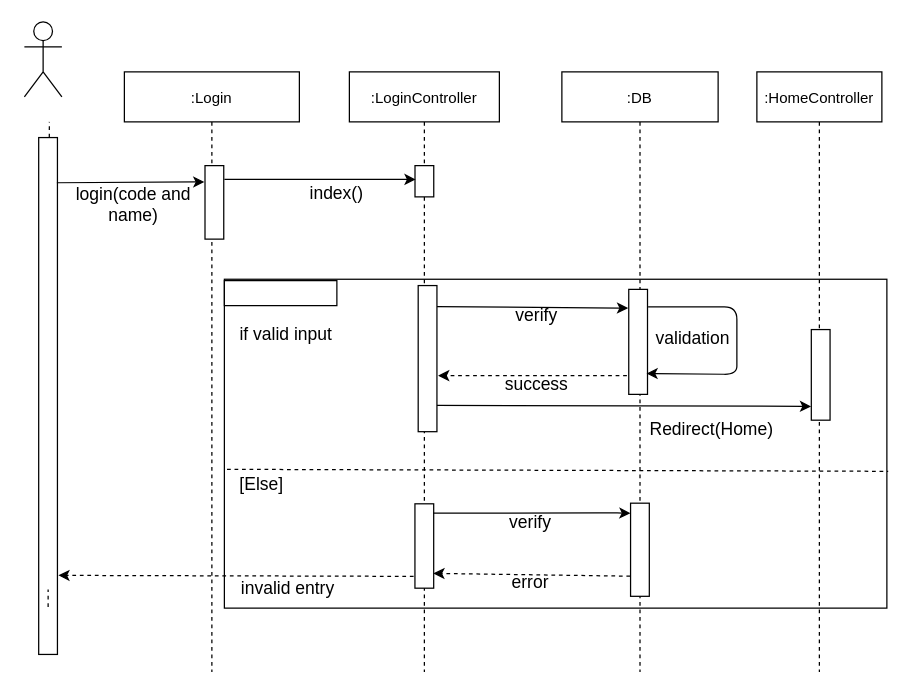
Image size: 913x694. Some labels were removed from this diagram. Each missing label, with the centre of its shape:
"Admin" goes at point 42,59.
"alternative" goes at point 280,292.
